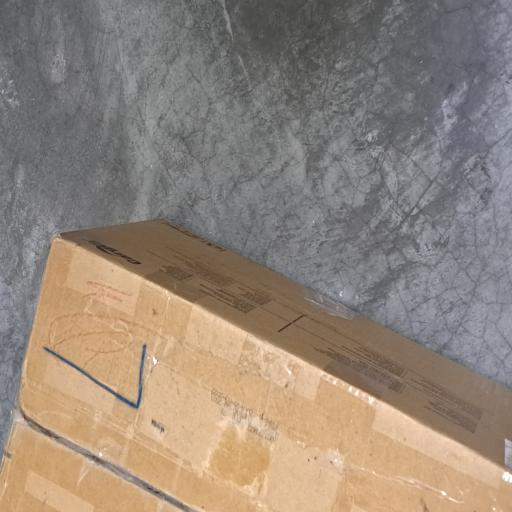cardboard: (0, 217, 512, 512)
